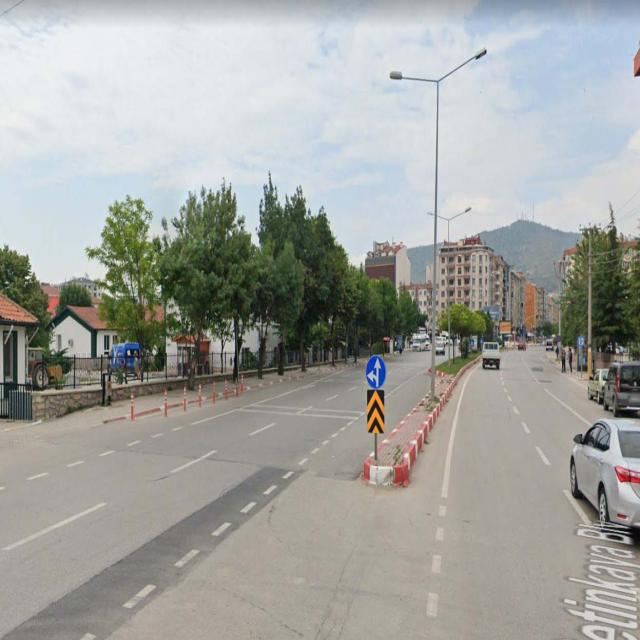ilerisol: (365, 355, 385, 390)
